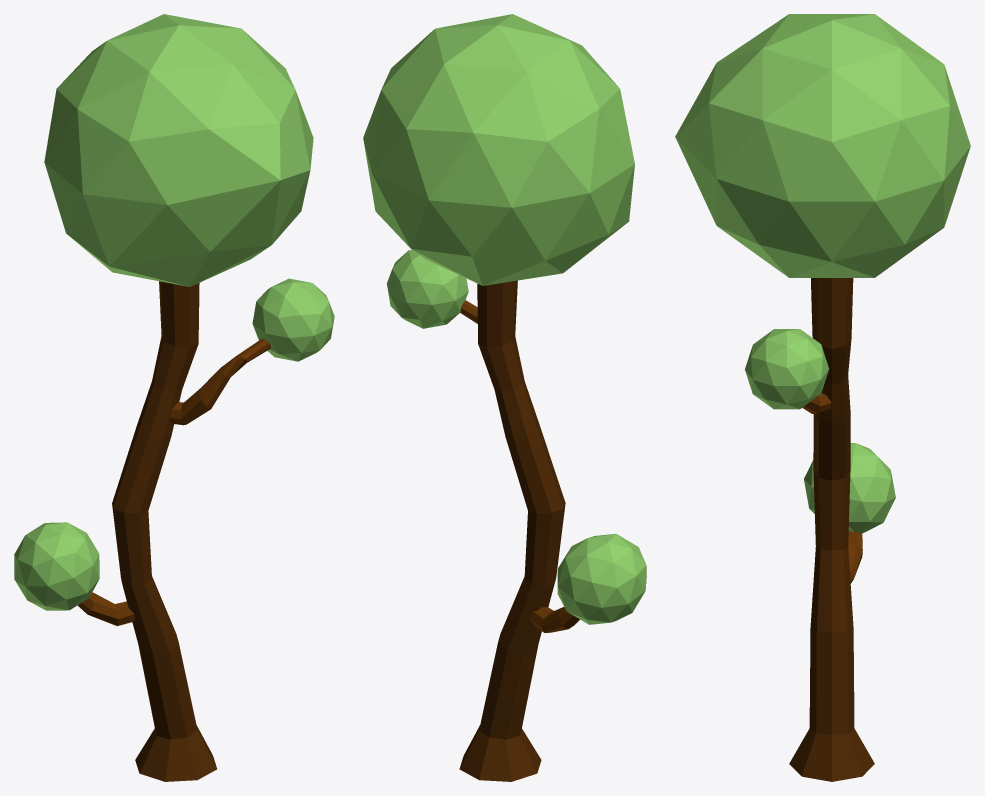
Rendered from Tree_02.fbx.
The picture shows the model from 3 angles, left to right: view 1: azimuth 30°, elevation 25°; view 2: azimuth 150°, elevation 25°; view 3: azimuth 270°, elevation 25°; orthographic projection.
Parts seen in each view (by area): view 1: Tree_02; view 2: Tree_02; view 3: Tree_02.
Part boxes in pixels (box(x1,y1,x2,y2)): Tree_02: box(14, 14, 334, 781); Tree_02: box(363, 14, 646, 781); Tree_02: box(675, 14, 970, 781).
Bounding box in the file's own units: 172 × 436 × 157.
